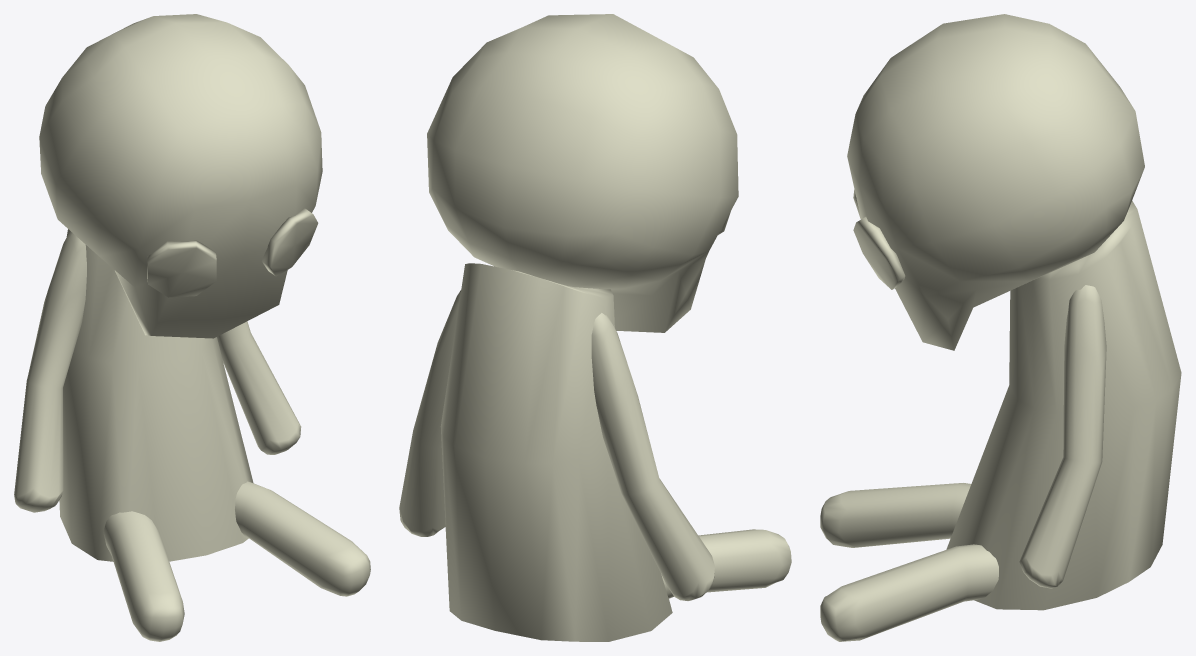
The model's file is skelly_big.fbx.
3 renders of one model, left to right at view 1: azimuth 30°, elevation 25°; view 2: azimuth 150°, elevation 25°; view 3: azimuth 270°, elevation 25°, orthographic. The views are drawn at different scales.
Visible parts, largest first — view 1: skelly_big; view 2: skelly_big; view 3: skelly_big.
Part boxes in pixels (x1,y1,x2,y2): skelly_big: (14, 14, 370, 641); skelly_big: (399, 14, 791, 641); skelly_big: (820, 14, 1181, 641).
Size of the model in its own units: 150 by 273 by 158.
